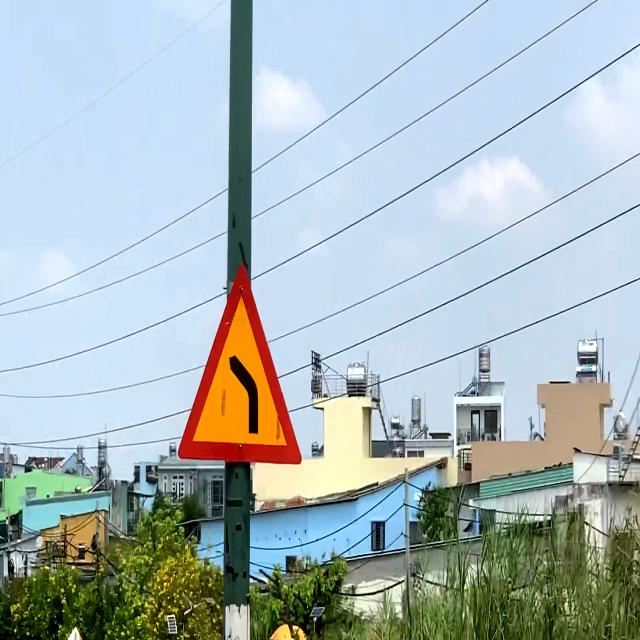W.201a: (176, 259, 306, 467)
